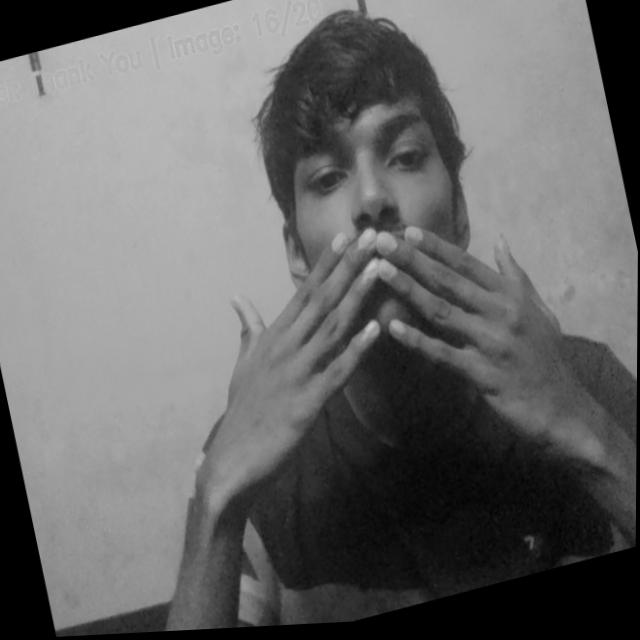Thank You: (160, 175, 601, 507)
